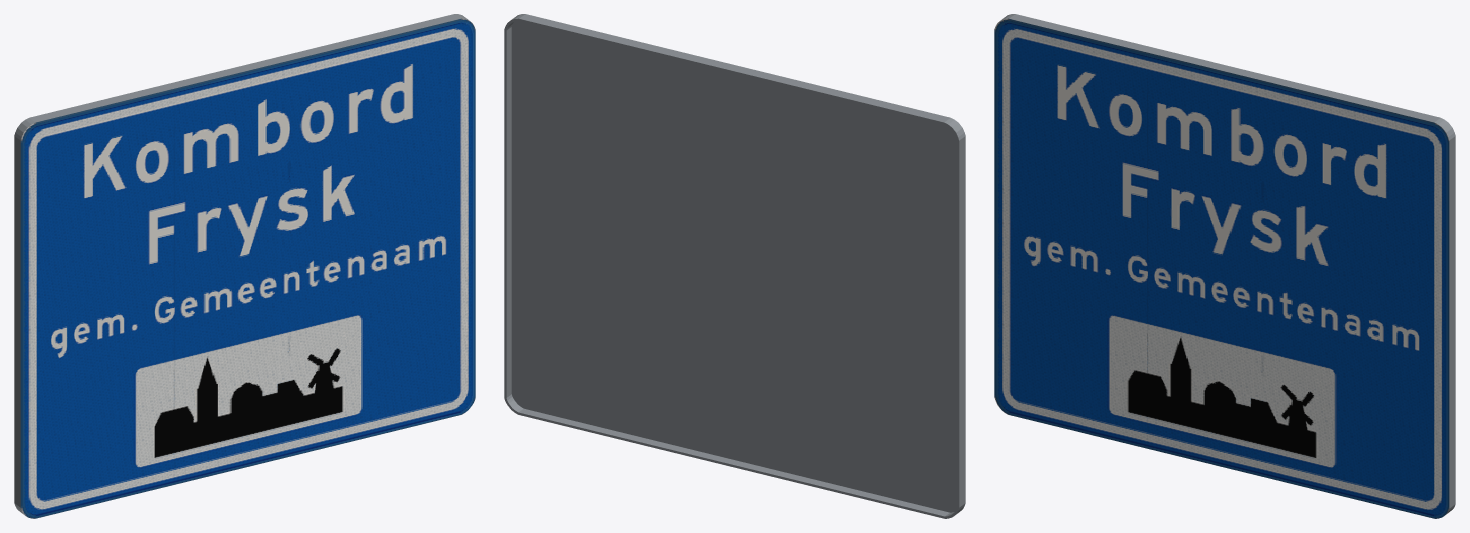
The picture shows the model from 3 angles, left to right: view 1: azimuth 30°, elevation 25°; view 2: azimuth 150°, elevation 25°; view 3: azimuth 330°, elevation 25°; orthographic projection.
Parts seen in each view (by area): view 1: cat_b9207c5c46bc4b70; view 2: cat_b9207c5c46bc4b70; view 3: cat_b9207c5c46bc4b70.
Boxes of the visible parts, x1,y1,x2,y2 form: cat_b9207c5c46bc4b70: (14,14,475,518); cat_b9207c5c46bc4b70: (504,14,965,518); cat_b9207c5c46bc4b70: (994,14,1455,518).
Bounding box in the file's own units: 0.6 × 0.015 × 0.4993.
2 materials, 1 textured.
